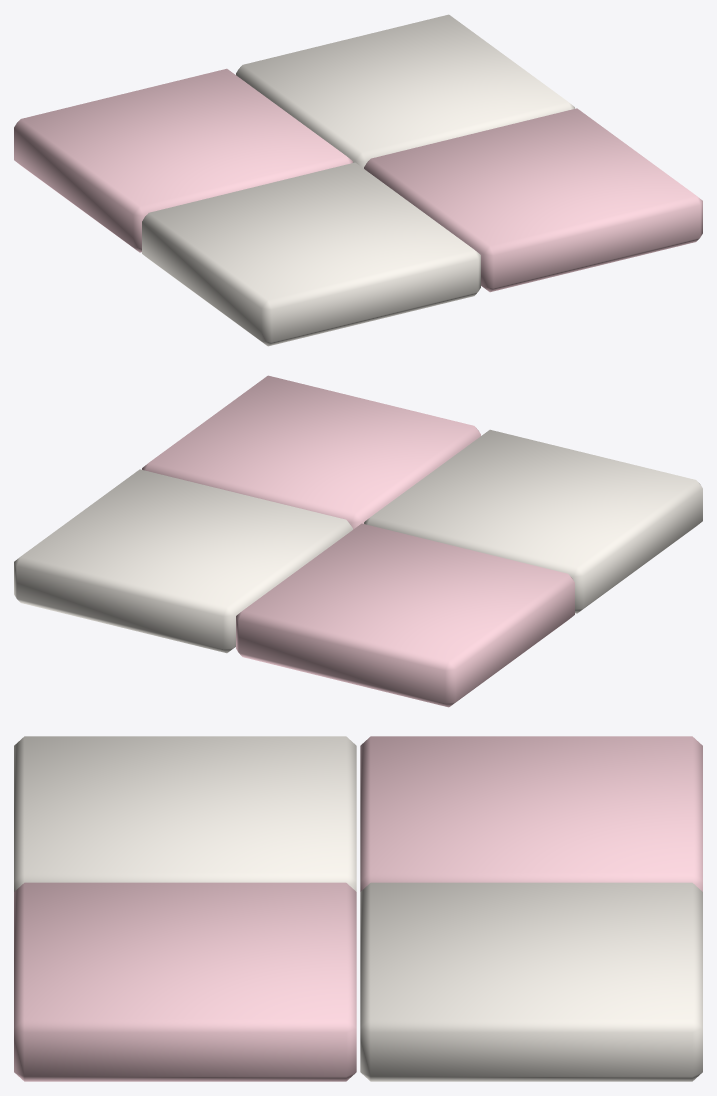
Rendered from piso_xadrez.glb.
The picture shows the model from 3 angles, top to bottom: view 1: azimuth 30°, elevation 25°; view 2: azimuth 150°, elevation 25°; view 3: azimuth 270°, elevation 25°; orthographic projection. The views are drawn at different scales.
Visible parts, largest first — view 1: Piso_Xadrez; view 2: Piso_Xadrez; view 3: Piso_Xadrez.
Boxes of the visible parts, box(x1,y1,x2,y2) form: Piso_Xadrez: box(14, 14, 702, 346); Piso_Xadrez: box(14, 375, 702, 707); Piso_Xadrez: box(14, 736, 702, 1081).
Size of the model in its own units: 0.995 by 0.1 by 0.995.
